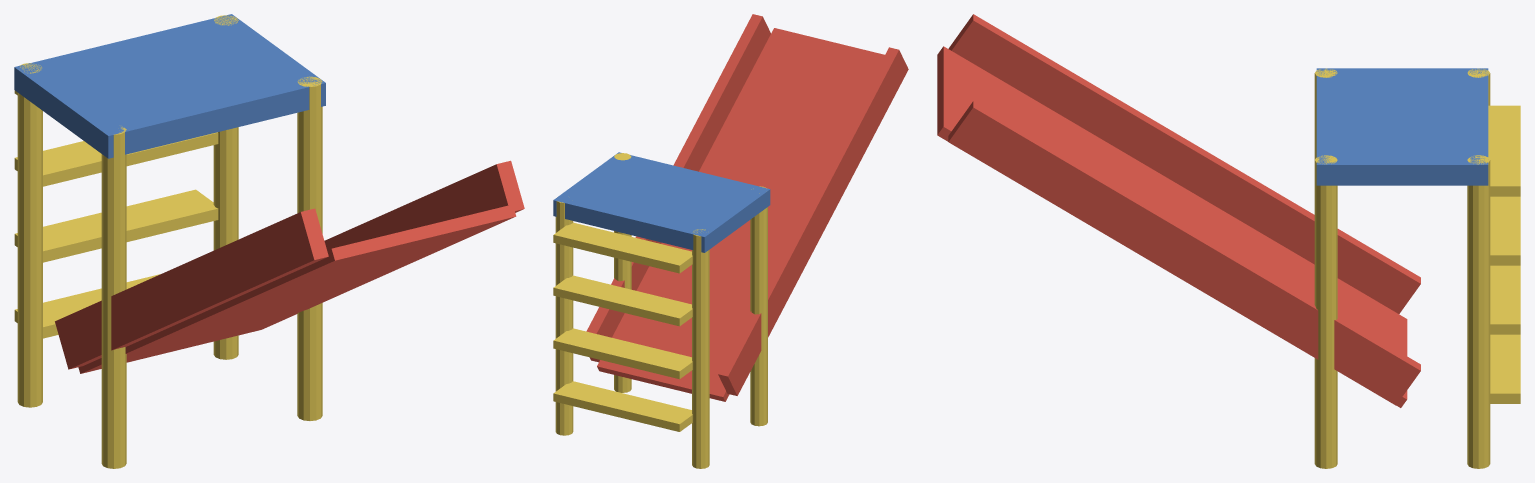
The model's file is yard_slide.glb.
The picture shows the model from 3 angles, left to right: view 1: azimuth 30°, elevation 25°; view 2: azimuth 150°, elevation 25°; view 3: azimuth 270°, elevation 25°; orthographic projection. The views are drawn at different scales.
Parts seen in each view (by area): view 1: platform, rail, chute, post, post2, post2.001, rail.001, step1, post.001, step2, step0; view 2: chute, platform, rail, rail.001, post, step0, step3, step1, step2, post2, post.001, post2.001; view 3: rail.001, rail, platform, chute, post.001, post2.001, step3, step0, step1, step2.
Boxes of the visible parts, left/top/right/bottom form: platform: left=14, top=14, right=325, bottom=158; rail: left=55, top=208, right=328, bottom=369; chute: left=78, top=204, right=516, bottom=373; post: left=17, top=63, right=42, bottom=407; post2: left=101, top=126, right=126, bottom=468; post2.001: left=297, top=76, right=322, bottom=420; rail.001: left=324, top=160, right=524, bottom=250; step1: left=14, top=189, right=218, bottom=262; post.001: left=213, top=15, right=238, bottom=359; step2: left=14, top=132, right=218, bottom=186; step0: left=14, top=274, right=160, bottom=338; chute: left=597, top=28, right=884, bottom=401; platform: left=553, top=152, right=770, bottom=252; rail: left=718, top=47, right=908, bottom=395; rail.001: left=586, top=14, right=770, bottom=362; post: left=692, top=229, right=709, bottom=468; step0: left=553, top=381, right=692, bottom=431; step3: left=553, top=222, right=692, bottom=273; step1: left=553, top=328, right=692, bottom=379; step2: left=553, top=275, right=692, bottom=326; post2: left=750, top=186, right=767, bottom=426; post.001: left=555, top=201, right=573, bottom=435; post2.001: left=614, top=153, right=631, bottom=392; rail.001: left=948, top=101, right=1420, bottom=405; rail: left=948, top=14, right=1420, bottom=313; platform: left=1316, top=68, right=1488, bottom=185; chute: left=937, top=46, right=1407, bottom=407; post.001: left=1467, top=155, right=1490, bottom=468; post2.001: left=1314, top=155, right=1337, bottom=468; step3: left=1488, top=105, right=1520, bottom=196; step0: left=1490, top=334, right=1520, bottom=403; step1: left=1490, top=265, right=1520, bottom=334; step2: left=1490, top=196, right=1520, bottom=265.
Size of the model in its own units: 0.6 by 1.04 by 1.53.
